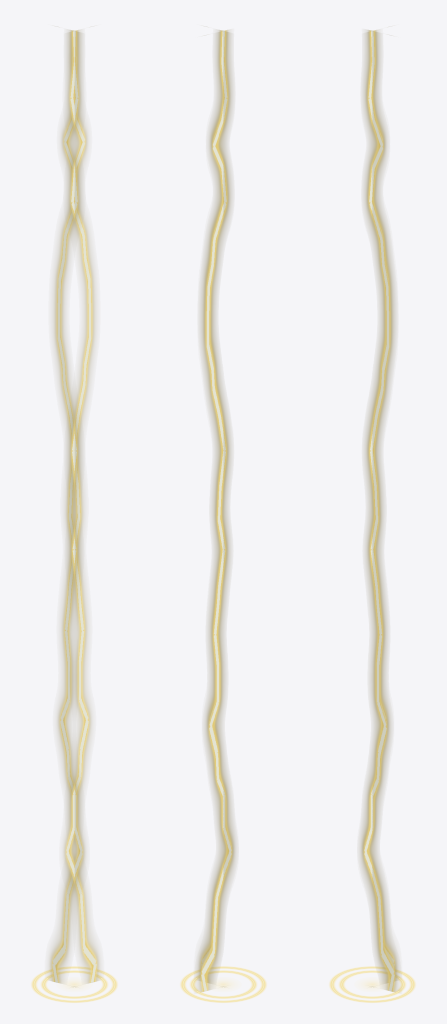
File: fx_sigil_asc.glb
The picture shows the model from 3 angles, left to right: view 1: azimuth 30°, elevation 25°; view 2: azimuth 150°, elevation 25°; view 3: azimuth 330°, elevation 25°; orthographic projection.
Visible parts, largest first — view 1: fx_bolt, fx_impact; view 2: fx_bolt, fx_impact; view 3: fx_bolt, fx_impact.
Part boxes in pixels (<box>): fx_bolt: <box>49,30,99,983</box>; fx_impact: <box>31,966,117,1002</box>; fx_bolt: <box>196,30,235,991</box>; fx_impact: <box>180,966,266,1002</box>; fx_bolt: <box>360,30,399,991</box>; fx_impact: <box>329,966,415,1002</box>.
Bounding box in the file's own units: 1 × 12 × 1.
2 materials, 2 textured.
